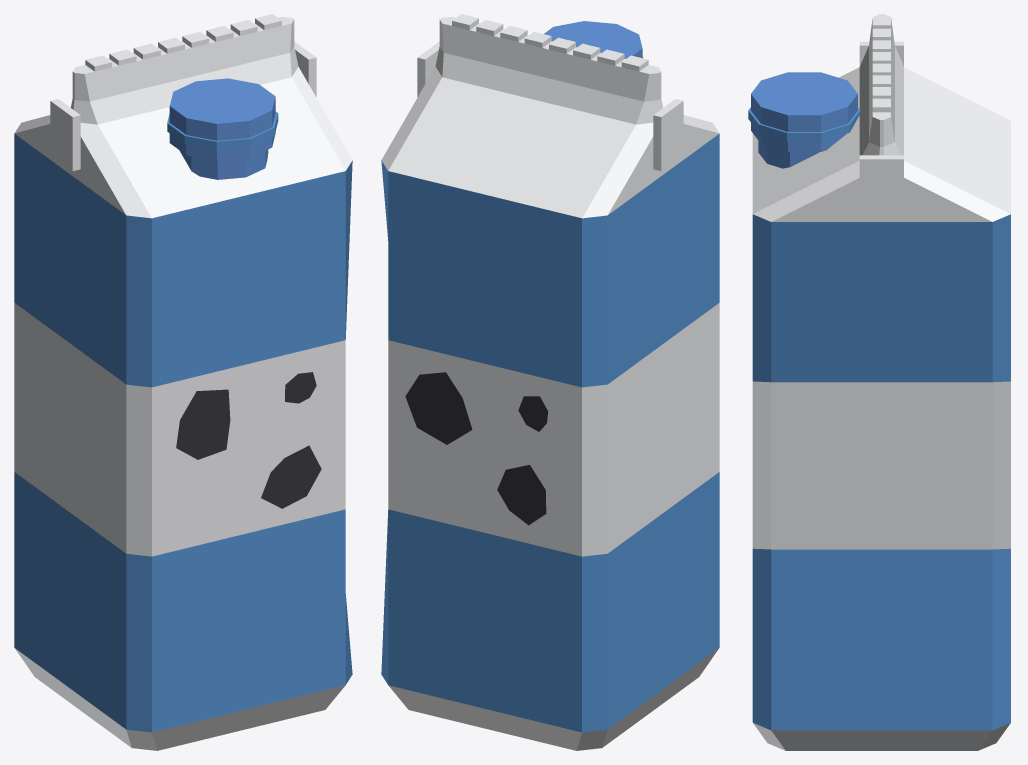
Rendered from CajadeLeche.fbx.
The picture shows the model from 3 angles, left to right: view 1: azimuth 30°, elevation 25°; view 2: azimuth 150°, elevation 25°; view 3: azimuth 270°, elevation 25°; orthographic projection.
Visible parts, largest first — view 1: Caja_Leche; view 2: Caja_Leche; view 3: Caja_Leche.
Boxes of the visible parts, box(x1,y1,x2,y2) form: Caja_Leche: box(14, 14, 352, 750); Caja_Leche: box(381, 14, 719, 750); Caja_Leche: box(748, 14, 1010, 750).
Size of the model in its own units: 7.55 by 19.15 by 7.19.
